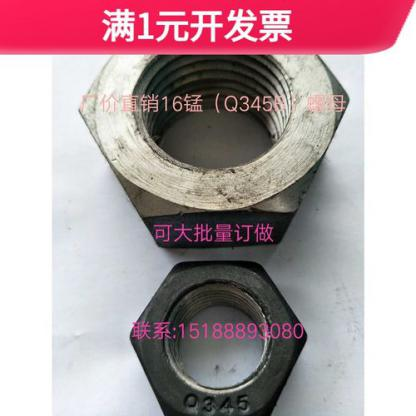FOD: (75, 30, 352, 260), (126, 256, 311, 415)
